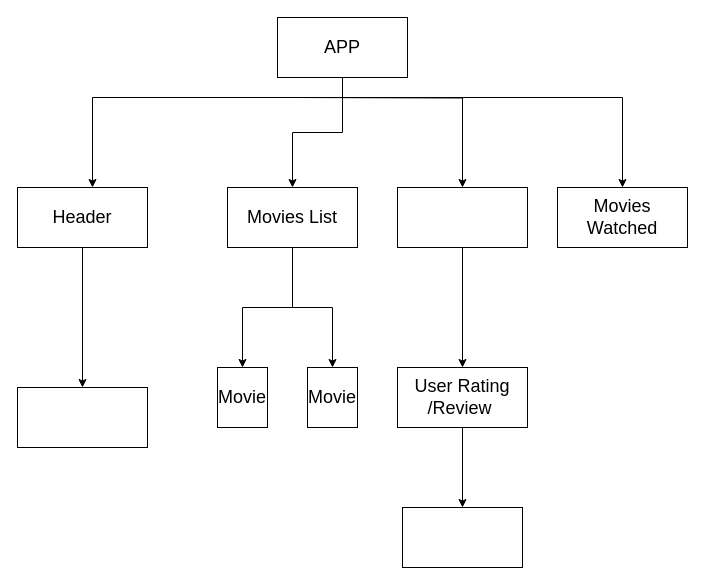
This 705x585 diagram has some shape labels left out. The shapes that lost their labels are listed below. From the top down, each one's centre as x and y in pixels, then its label:
At pixel 462 217: "Movie Details".
At pixel 82 417: "Search".
At pixel 462 537: "STAR".
